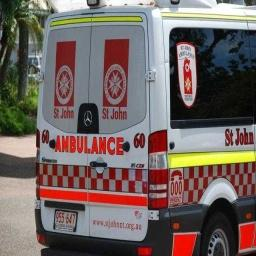ambulance: (35, 0, 255, 255)
